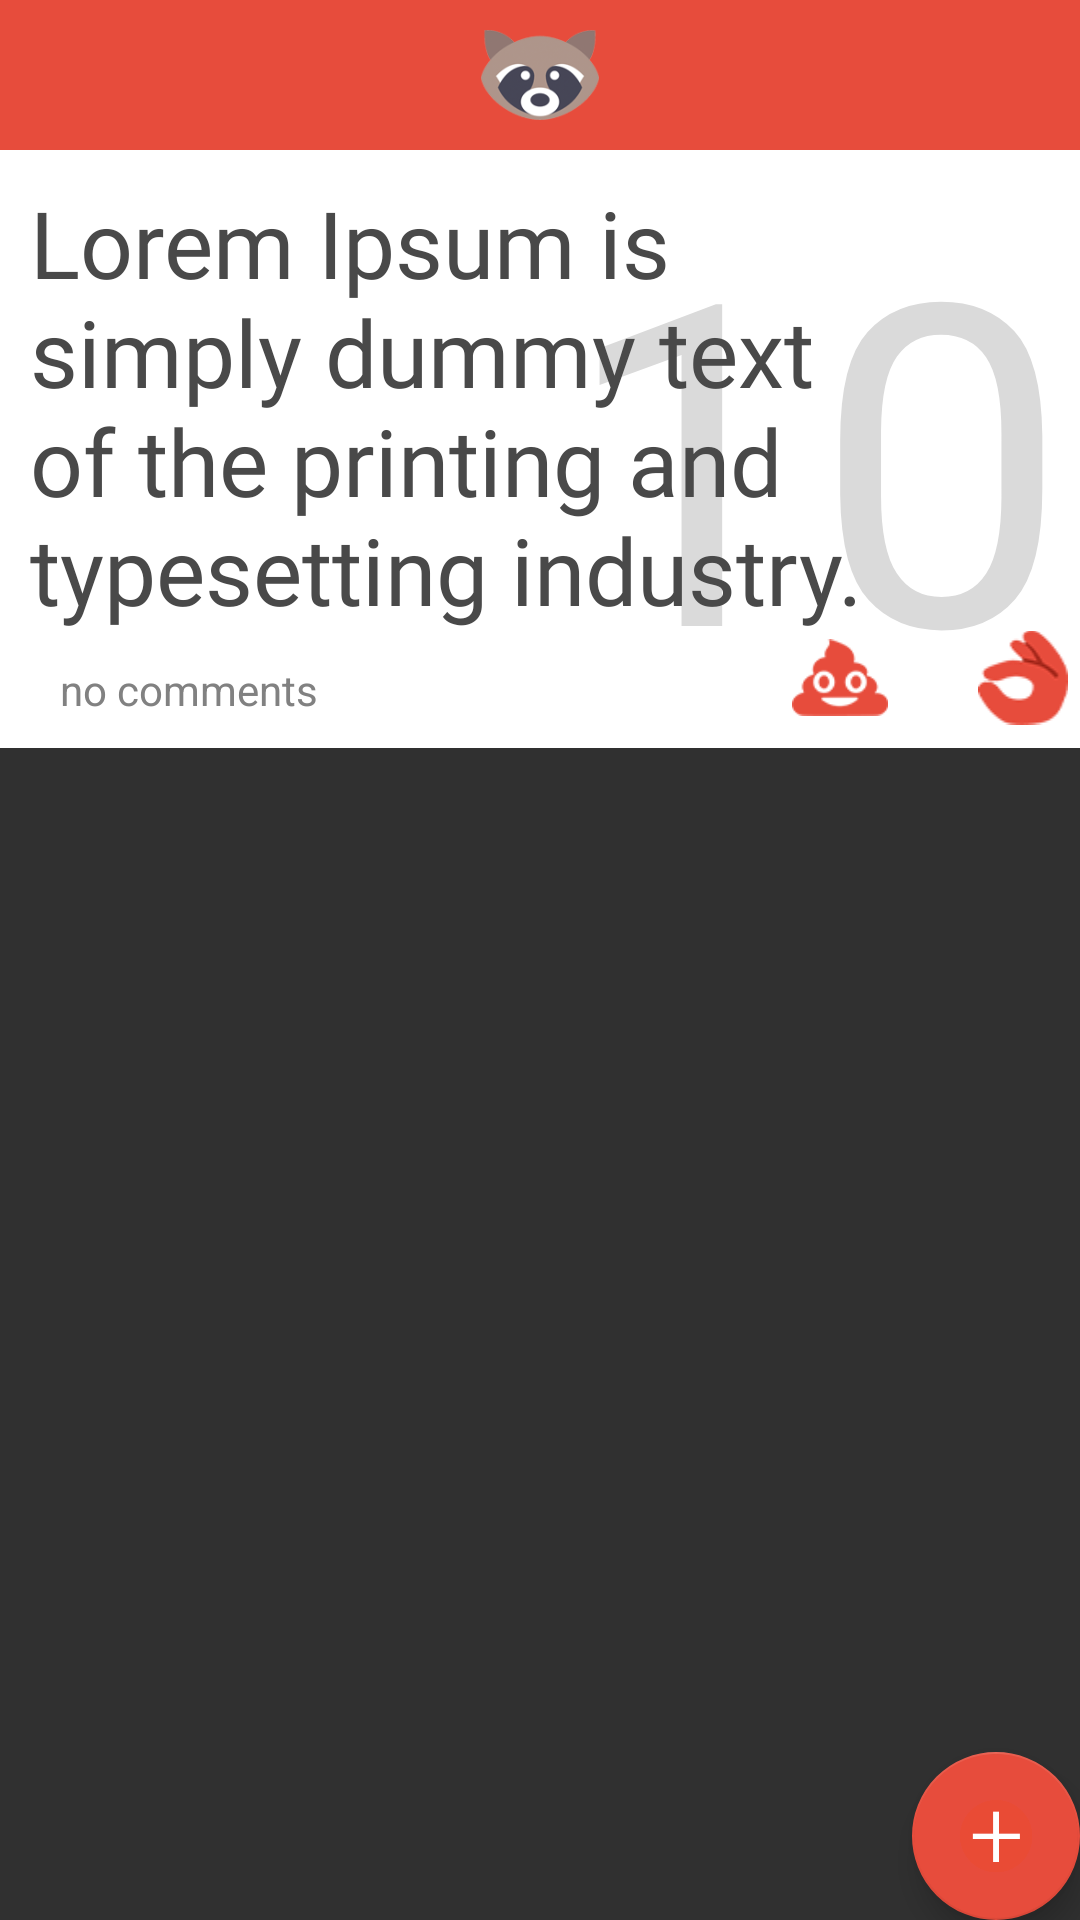

Where icons sit on this 1080 x 1920 app screen, as detection(x1, y1, x2, y2):
add post: detection(912, 1752, 1080, 1920)
okay: detection(978, 631, 1068, 725)
poop: detection(792, 639, 888, 716)
